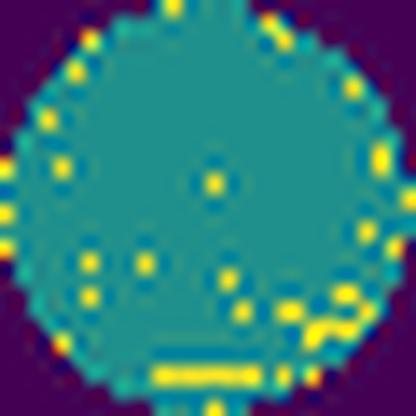Scratch: (141, 355, 271, 396)
